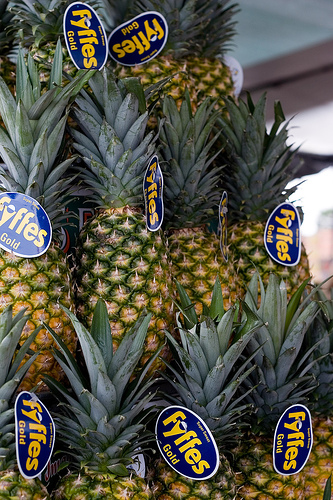pineapple: (68, 71, 172, 388), (45, 299, 171, 498), (224, 97, 310, 332), (100, 0, 236, 127), (0, 300, 48, 498)
